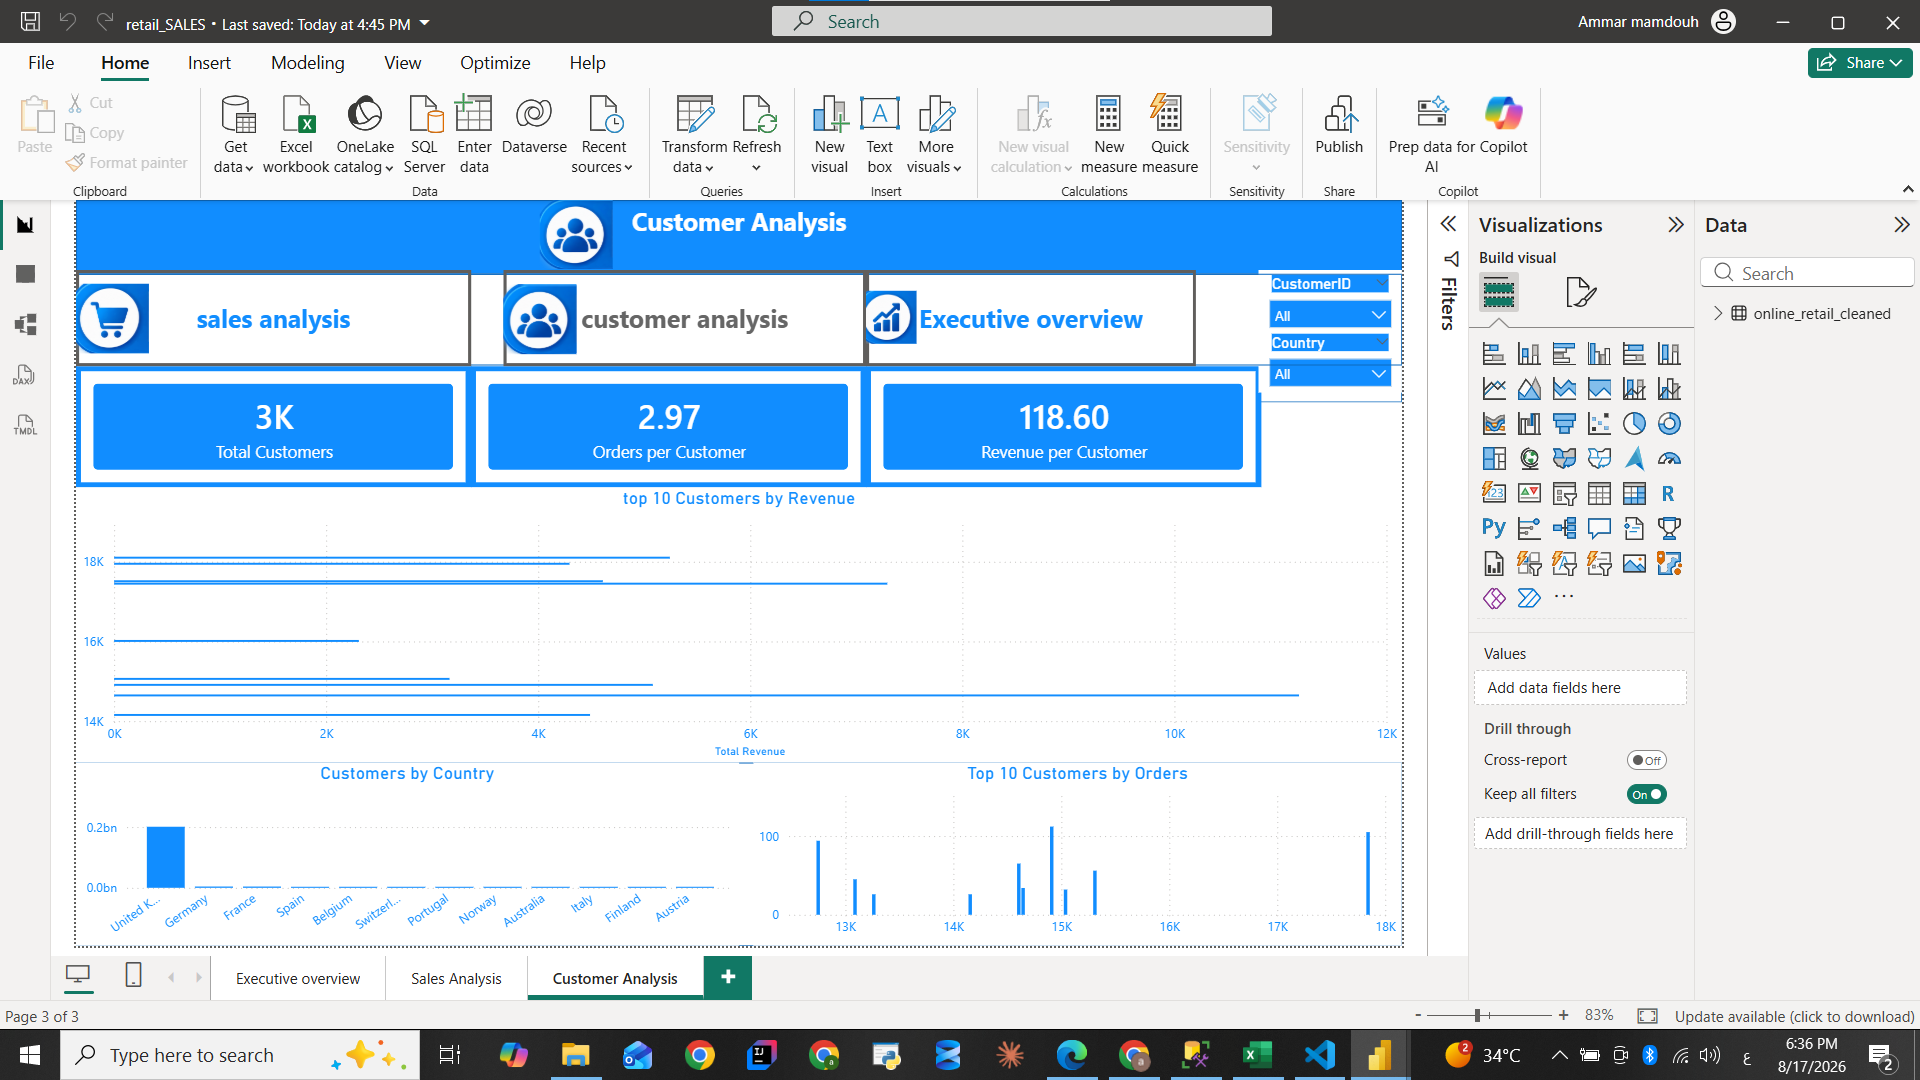

What the dashboard file says about the page in this screenshot:
{"tool":"powerbi","page":{"name":"Customer Analysis","canvas":[1280,720],"ordinal":2},"visuals":[{"type":"shape","box":[0,0,1280,71.4],"z":0},{"type":"textbox","box":[0,0,1280,71.4],"z":1000},{"type":"shape","box":[0,71.4,1280,124.3],"z":2000},{"type":"cardVisual","fields":{"Data":["online_retail_cleaned.Total Customers"]},"box":[0,160,381.4,117.1],"z":3000},{"type":"cardVisual","fields":{"Data":["online_retail_cleaned.Orders per Customer"]},"box":[381.4,160,381.4,117.1],"z":4000},{"type":"cardVisual","fields":{"Data":["online_retail_cleaned.Revenue per Customer"]},"box":[762.9,160,381.4,117.1],"z":5000},{"type":"clusteredBarChart","title":"top 10 Customers by Revenue","fields":{"Category":["online_retail_cleaned.CustomerID"],"Y":["online_retail_cleaned.Total Revenue"]},"box":[0,277.1,1280,265.7],"z":6000},{"type":"shape","box":[0,542.9,1280,177.1],"z":7000},{"type":"clusteredColumnChart","title":"Customers by Country","fields":{"Y":["Sum(online_retail_cleaned.CustomerID)"],"Category":["online_retail_cleaned.Country"]},"box":[0,542.9,640,177.1],"z":8000},{"type":"clusteredColumnChart","title":"Top 10 Customers by Orders","fields":{"Category":["online_retail_cleaned.CustomerID"],"Y":["online_retail_cleaned.Total Orders"]},"box":[654.3,542.9,625.7,177.1],"z":9000},{"type":"slicer","fields":{"Values":["online_retail_cleaned.Country"]},"box":[1141.4,124.3,138.6,61.4],"z":10000},{"type":"slicer","fields":{"Values":["online_retail_cleaned.CustomerID"]},"box":[1141.4,67.1,138.6,57.1],"z":11000},{"type":"shape","box":[0,71.4,1280,88.6],"z":12000},{"type":"actionButton","box":[0,67.1,381.4,92.9],"z":13000},{"type":"actionButton","box":[412.9,67.1,350,92.9],"z":14000},{"type":"actionButton","box":[762.9,67.1,318.6,92.9],"z":15000},{"type":"image","box":[412.9,70,70,88.6],"z":16000},{"type":"image","box":[412.9,71.4,70,88.6],"z":17000},{"type":"image","box":[447.1,0,70,67.1],"z":18000},{"type":"image","box":[0,81.4,70,67.1],"z":19000},{"type":"image","box":[762.9,80,48.6,67.1],"z":20000}]}

Visuals, with their boxes on the page's 1280x720 design canvas (x1, y1, x2, y2). These are canvas units, not pixel positions in the 1920x1080 screenshot, which may show the page scaled, cropped or inside an application window:
shape: {"x1": 0, "y1": 0, "x2": 1280, "y2": 71}
textbox: {"x1": 0, "y1": 0, "x2": 1280, "y2": 71}
shape: {"x1": 0, "y1": 71, "x2": 1280, "y2": 196}
cardVisual - online_retail_cleaned.Total Customers: {"x1": 0, "y1": 160, "x2": 381, "y2": 277}
cardVisual - online_retail_cleaned.Orders per Customer: {"x1": 381, "y1": 160, "x2": 763, "y2": 277}
cardVisual - online_retail_cleaned.Revenue per Customer: {"x1": 763, "y1": 160, "x2": 1144, "y2": 277}
"top 10 Customers by Revenue" clusteredBarChart: {"x1": 0, "y1": 277, "x2": 1280, "y2": 543}
shape: {"x1": 0, "y1": 543, "x2": 1280, "y2": 720}
"Customers by Country" clusteredColumnChart: {"x1": 0, "y1": 543, "x2": 640, "y2": 720}
"Top 10 Customers by Orders" clusteredColumnChart: {"x1": 654, "y1": 543, "x2": 1280, "y2": 720}
slicer - online_retail_cleaned.Country: {"x1": 1141, "y1": 124, "x2": 1280, "y2": 186}
slicer - online_retail_cleaned.CustomerID: {"x1": 1141, "y1": 67, "x2": 1280, "y2": 124}
shape: {"x1": 0, "y1": 71, "x2": 1280, "y2": 160}
actionButton: {"x1": 0, "y1": 67, "x2": 381, "y2": 160}
actionButton: {"x1": 413, "y1": 67, "x2": 763, "y2": 160}
actionButton: {"x1": 763, "y1": 67, "x2": 1082, "y2": 160}
image: {"x1": 413, "y1": 70, "x2": 483, "y2": 159}
image: {"x1": 413, "y1": 71, "x2": 483, "y2": 160}
image: {"x1": 447, "y1": 0, "x2": 517, "y2": 67}
image: {"x1": 0, "y1": 81, "x2": 70, "y2": 148}
image: {"x1": 763, "y1": 80, "x2": 812, "y2": 147}
